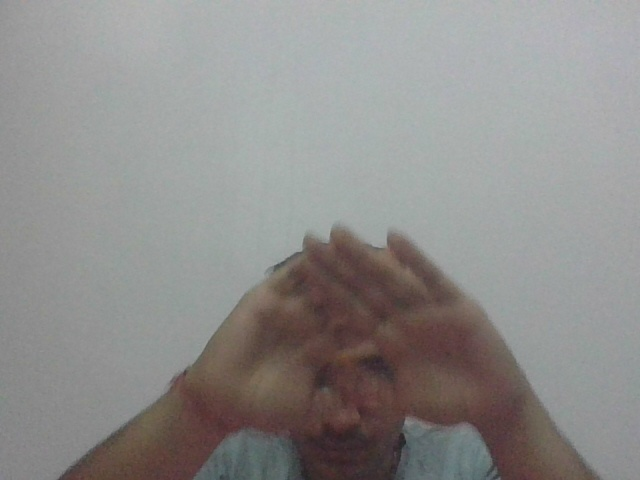W: (208, 218, 498, 440)
